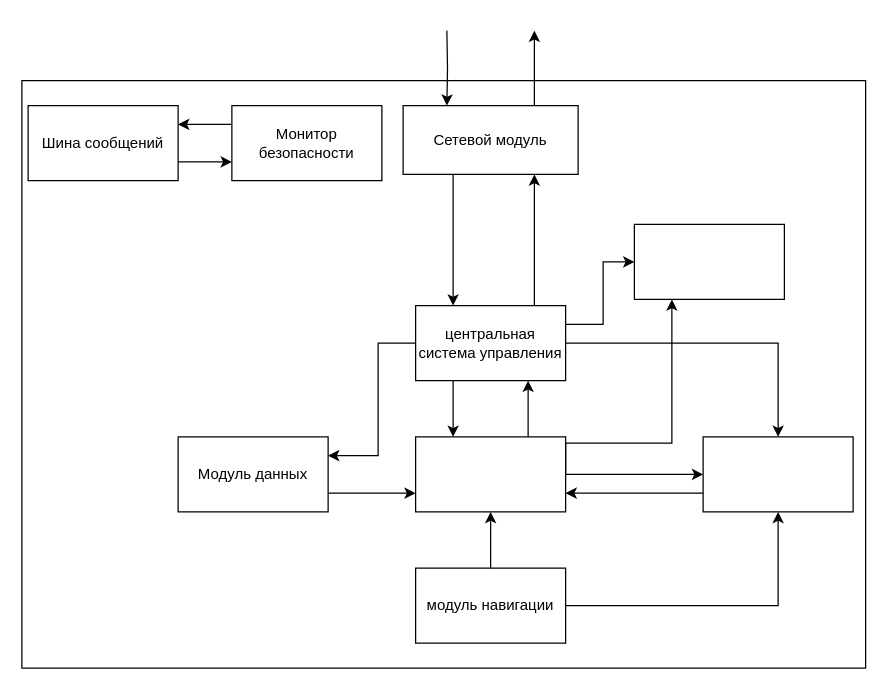
This 888x690 diagram has some shape labels left out. The shapes that lost their labels are listed below. From the top down, each one's centre as x and y in pixels, then its label:
point 708,261: Модуль управления приводами
point 490,474: Валидатор команд и шина данных
point 777,474: Модуль самодиагностики
